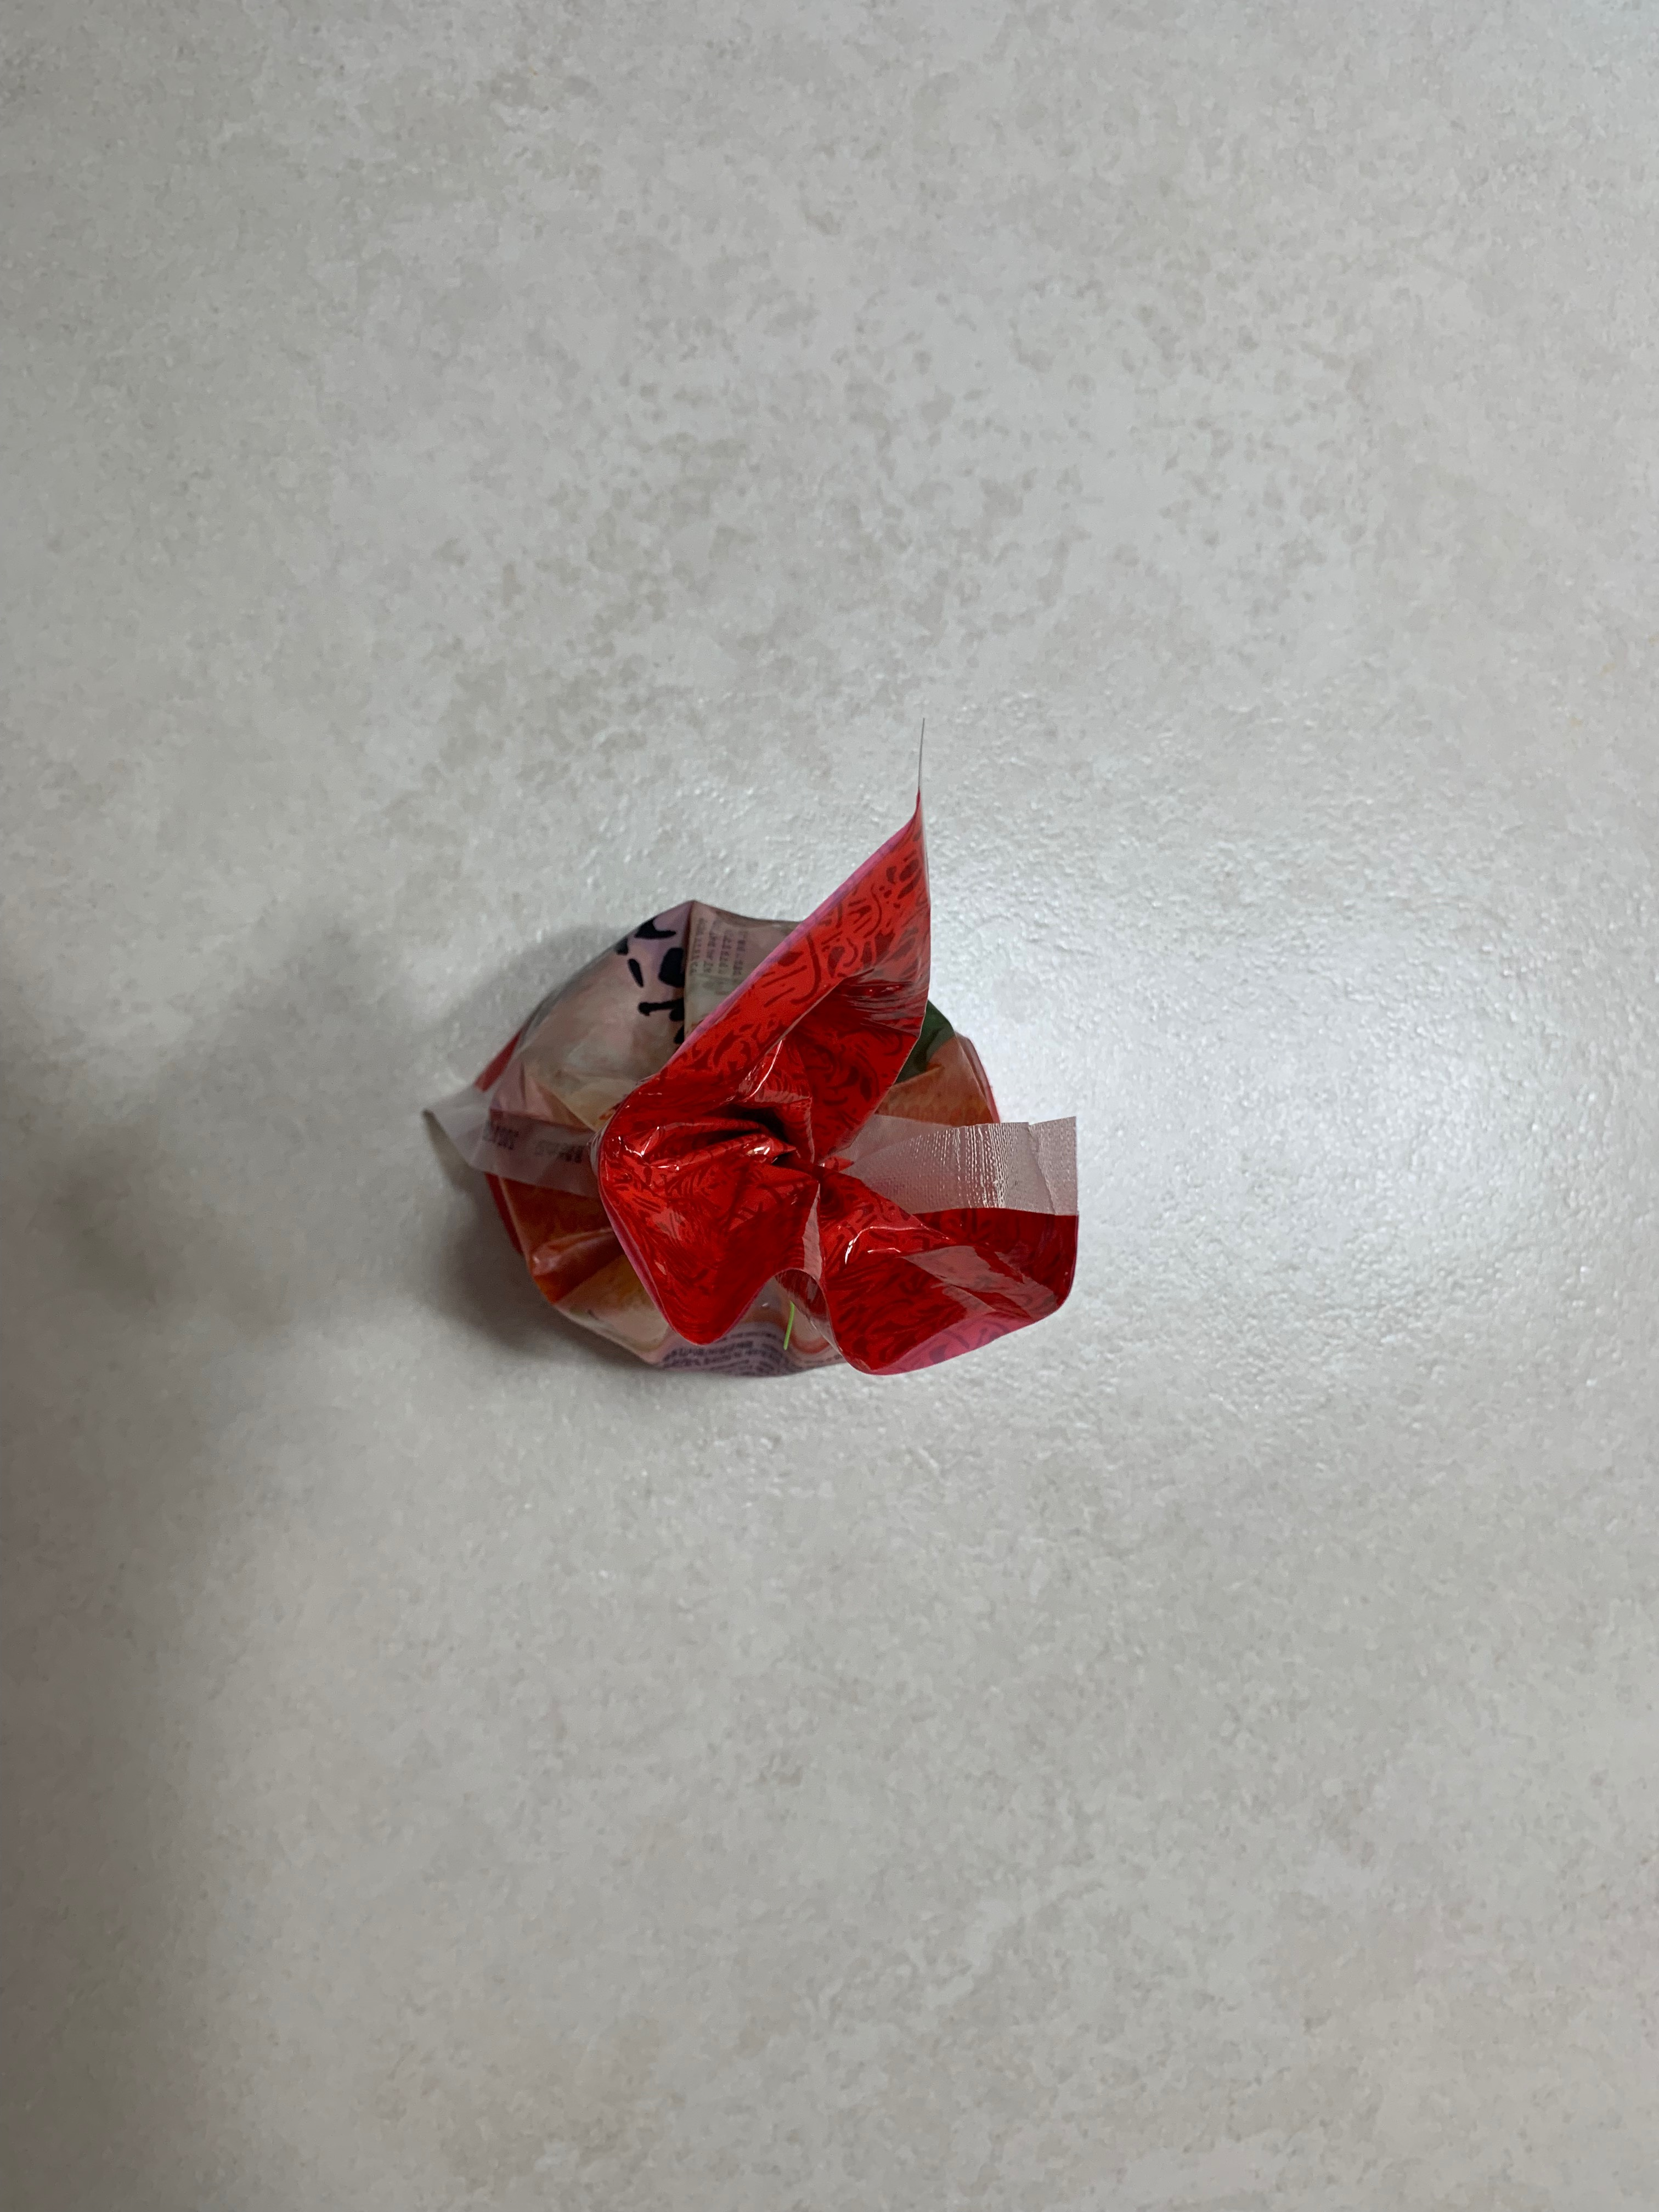kimchi: (427, 810, 1082, 1378)
